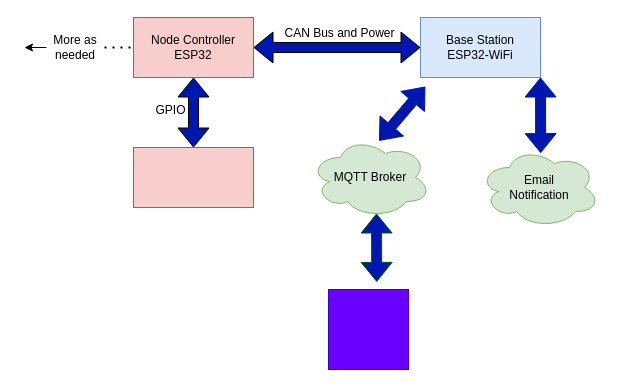
This 617x387 diagram has some shape labels left out. The box of each missing label's shape, as (x1, y1, x2, y2) in pixels:
Blazer Web App: (328, 288, 408, 370)
Device/Sensor: (132, 146, 254, 208)
